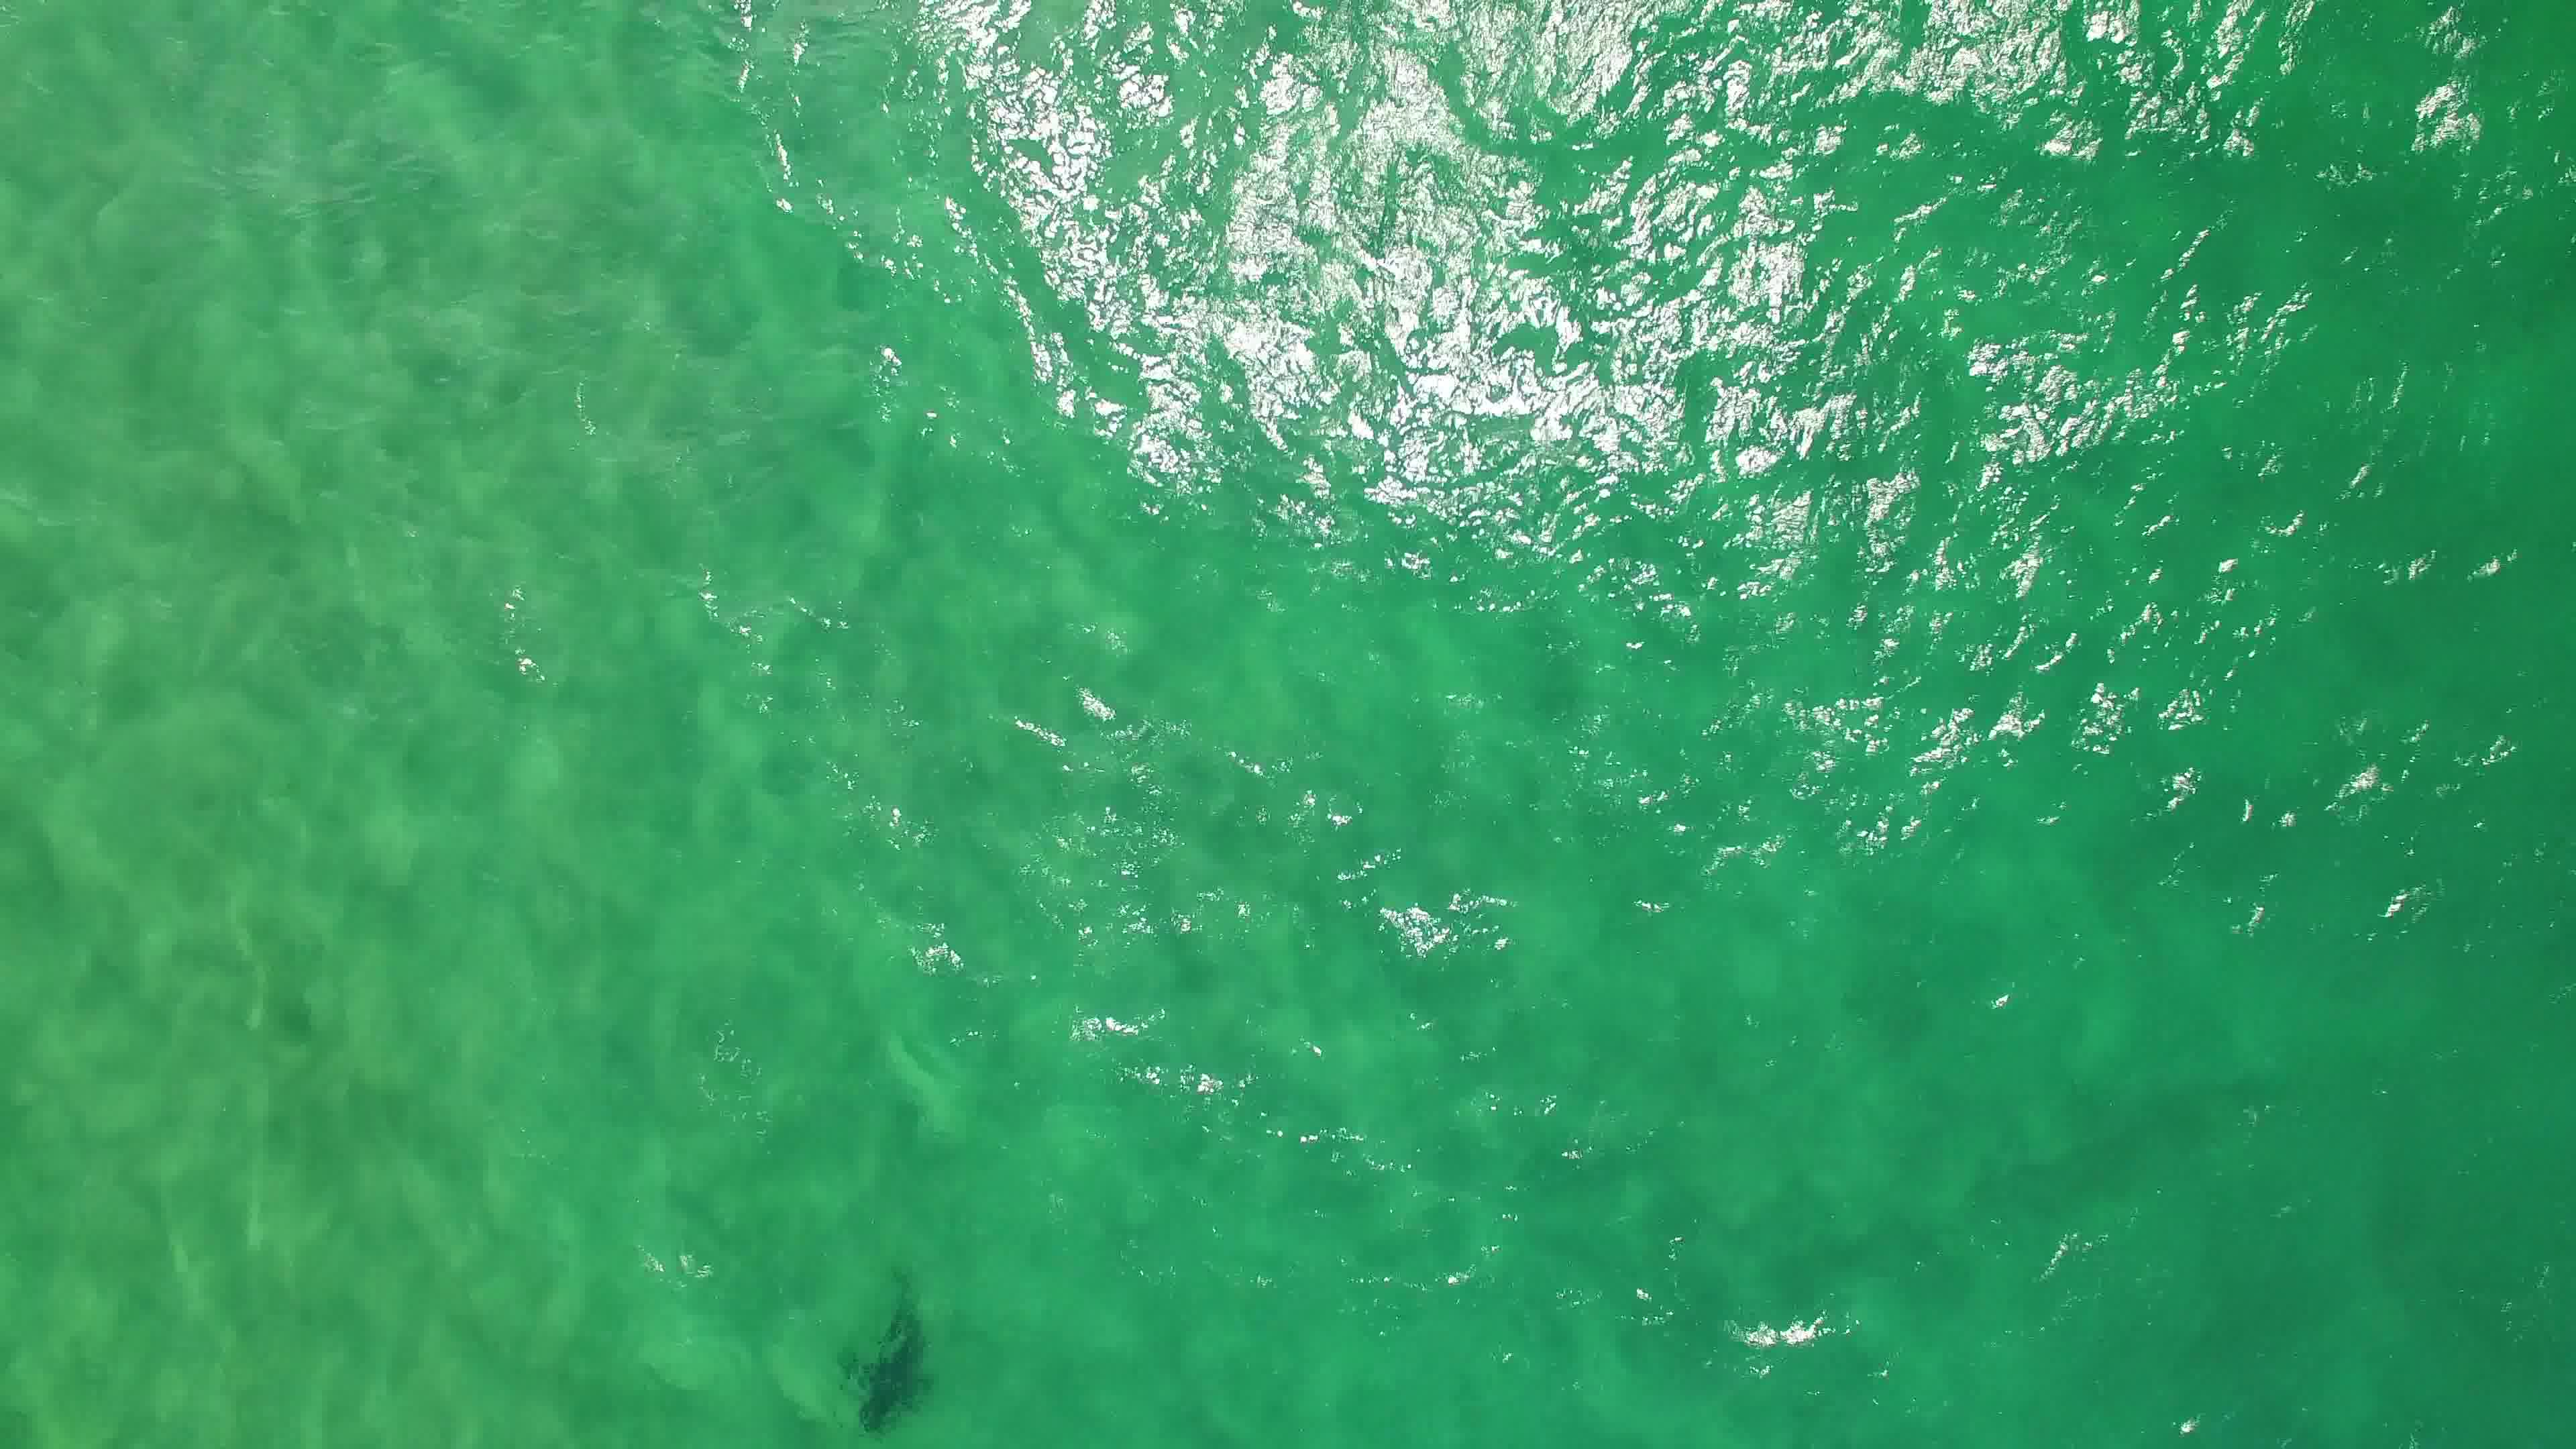shark: (844, 1276, 941, 1438)
